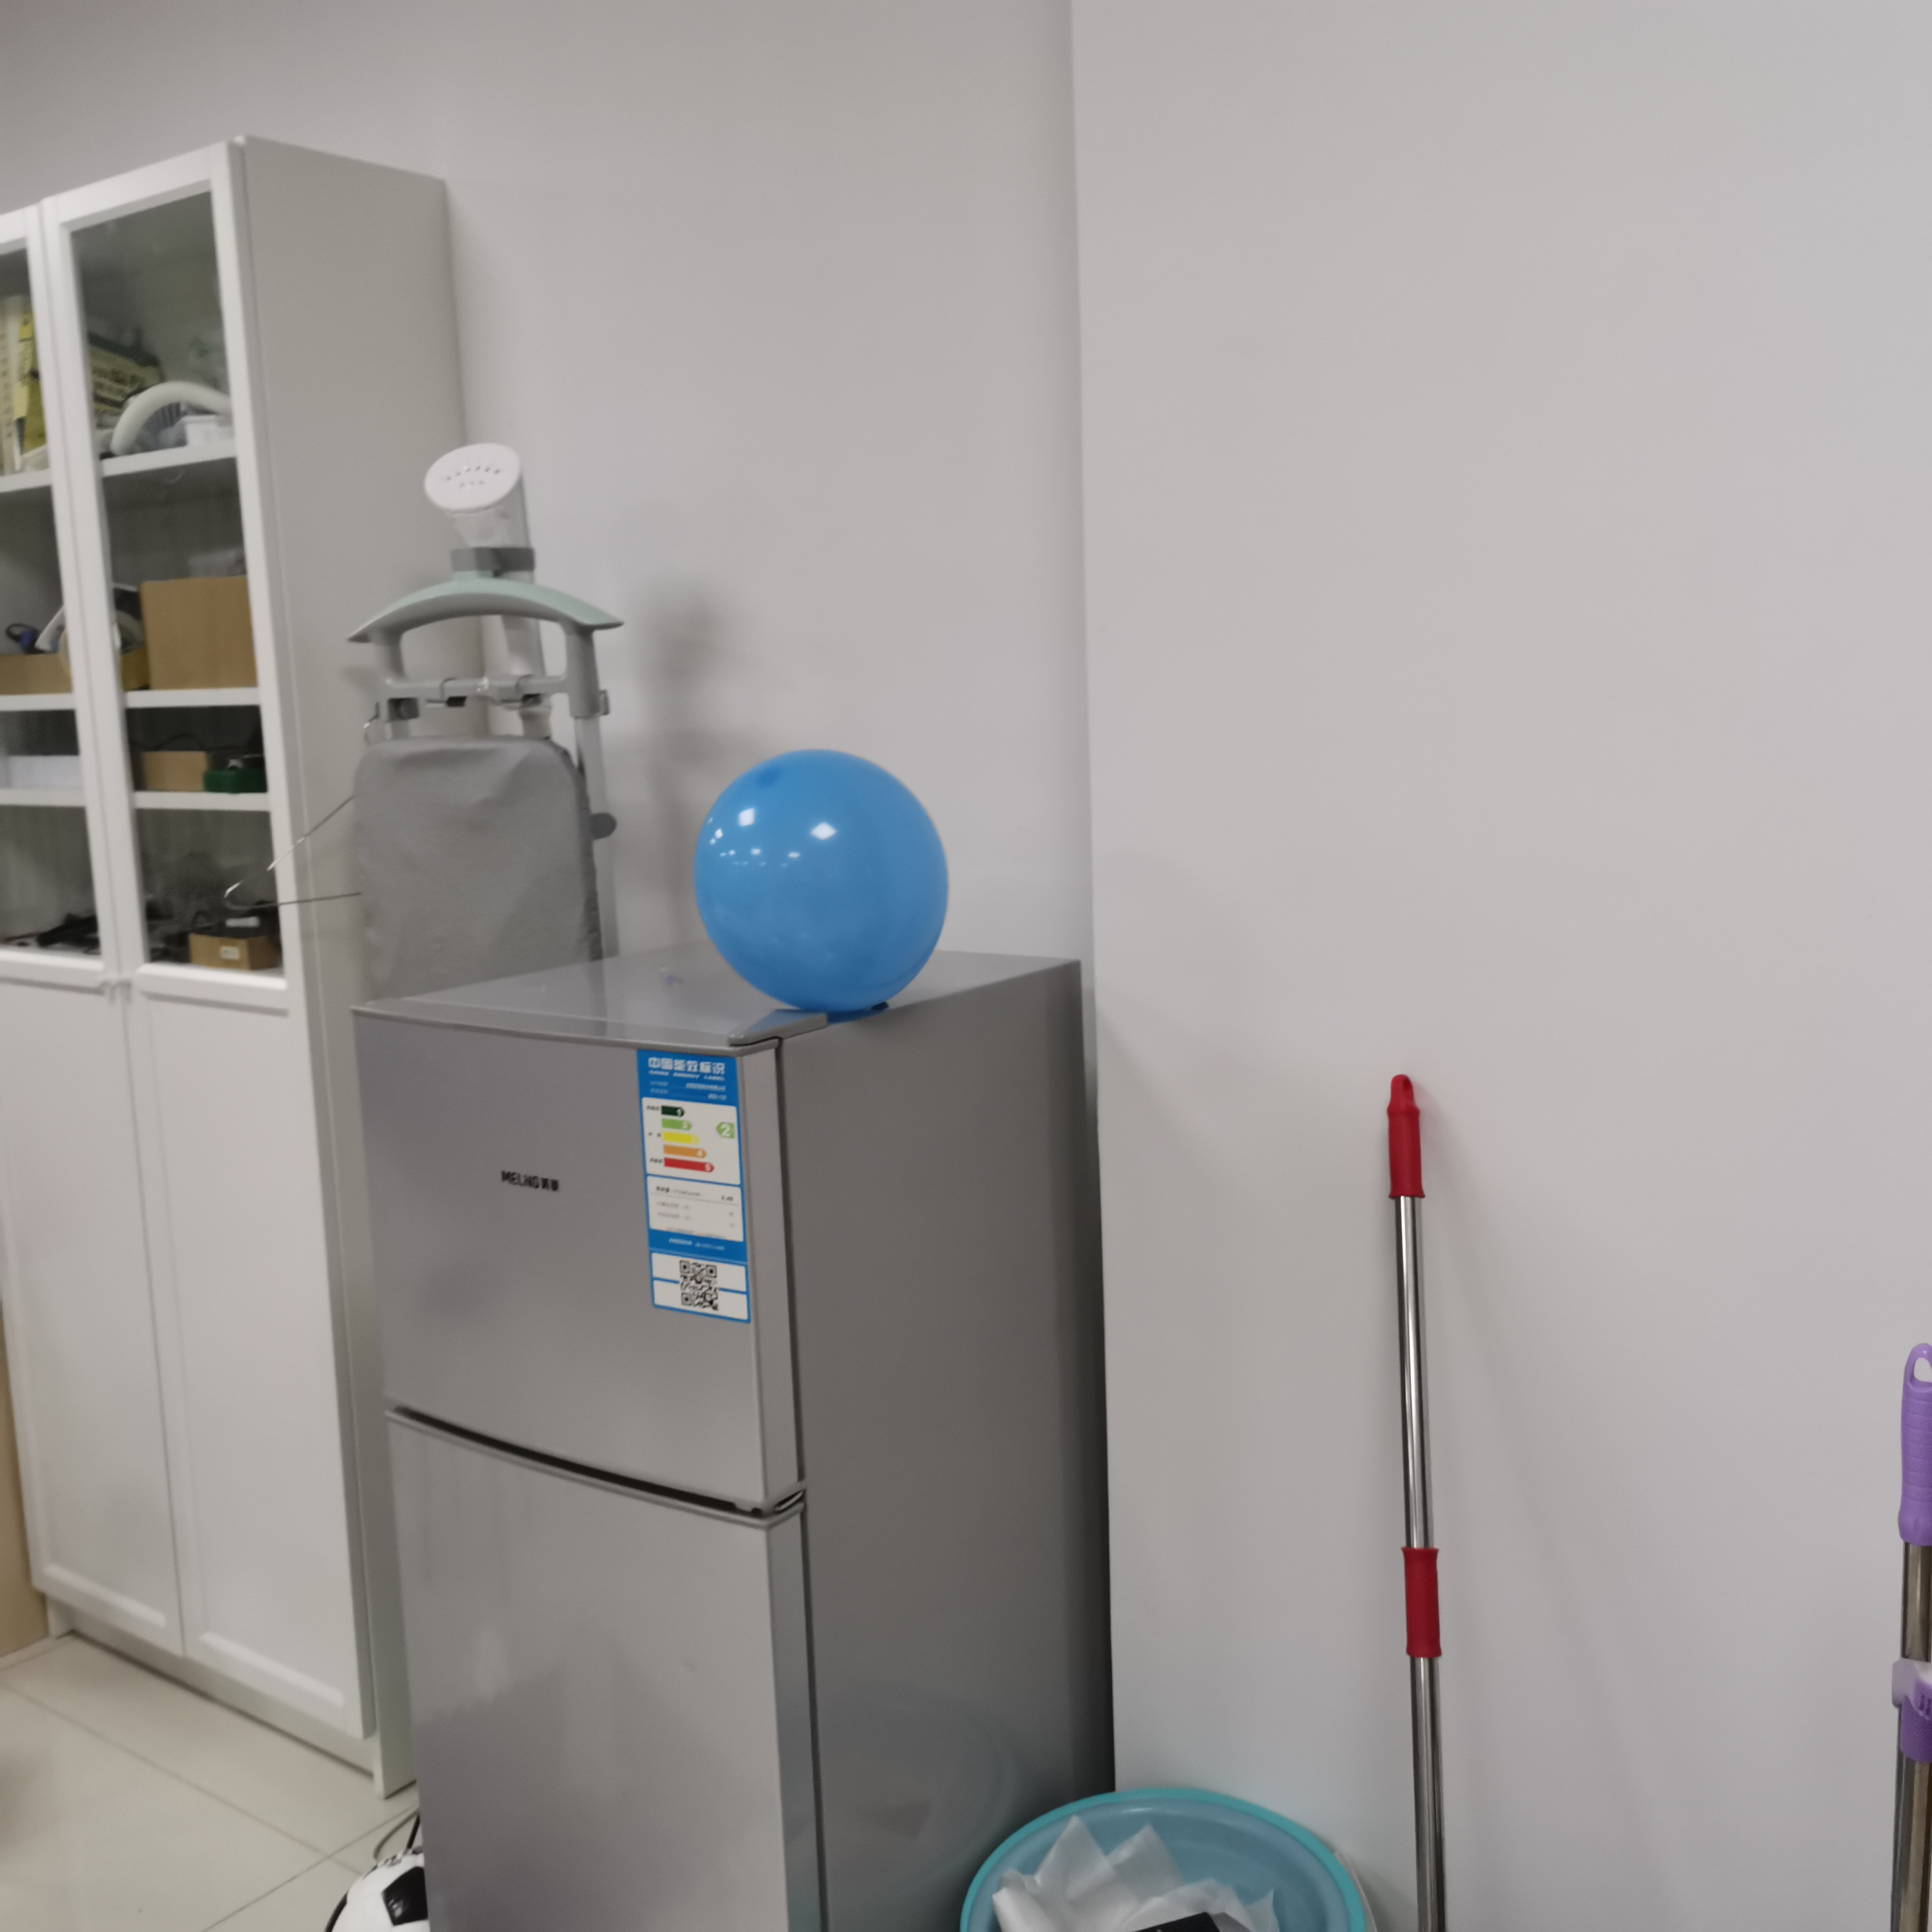balloon: (695, 748, 947, 1021)
